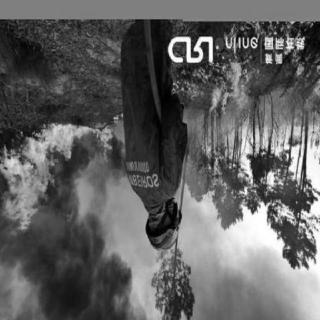Fire: (169, 24, 315, 137), (0, 113, 126, 235)
Smoke: (3, 215, 134, 309)
